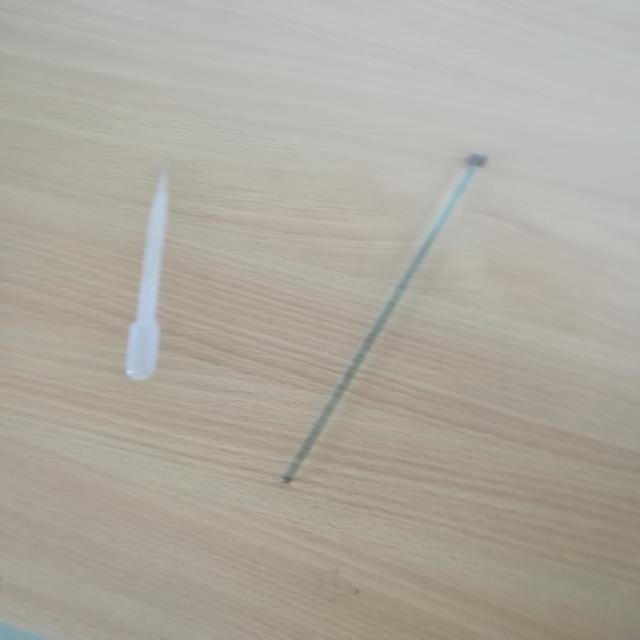Glass_Rod: (256, 131, 534, 515)
Pipette: (89, 140, 218, 397)
